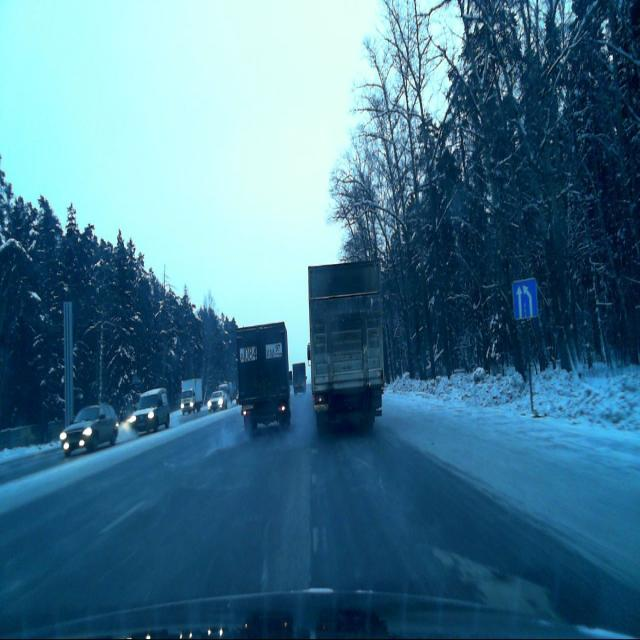object: (523, 318, 534, 412)
road sign: (512, 281, 539, 319)
